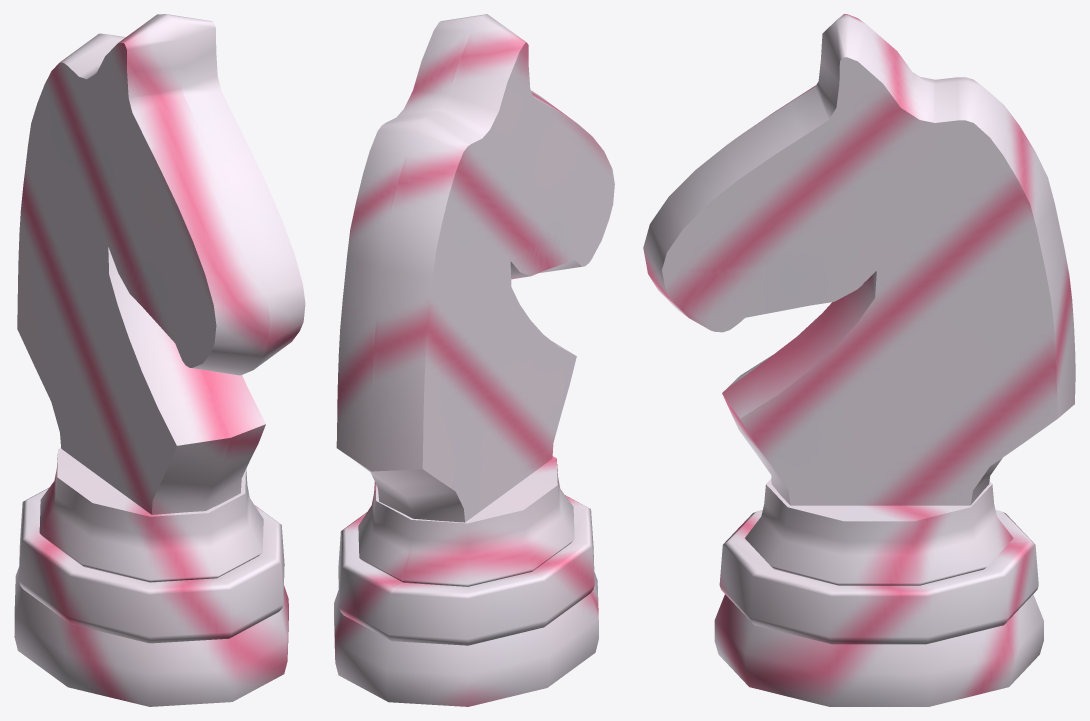
The model's file is item-1-4.glb.
The picture shows the model from 3 angles, left to right: view 1: azimuth 30°, elevation 25°; view 2: azimuth 150°, elevation 25°; view 3: azimuth 270°, elevation 25°; orthographic projection. The views are drawn at different scales.
Parts seen in each view (by area): view 1: BlackHorse; view 2: BlackHorse; view 3: BlackHorse.
Part boxes in pixels (x1,y1,x2,y2): BlackHorse: [14, 14, 305, 706]; BlackHorse: [334, 14, 614, 706]; BlackHorse: [643, 14, 1075, 706].
Size of the model in its own units: 0.0718 by 0.1965 by 0.1211.
Materials: 1 (1 with a texture image).
